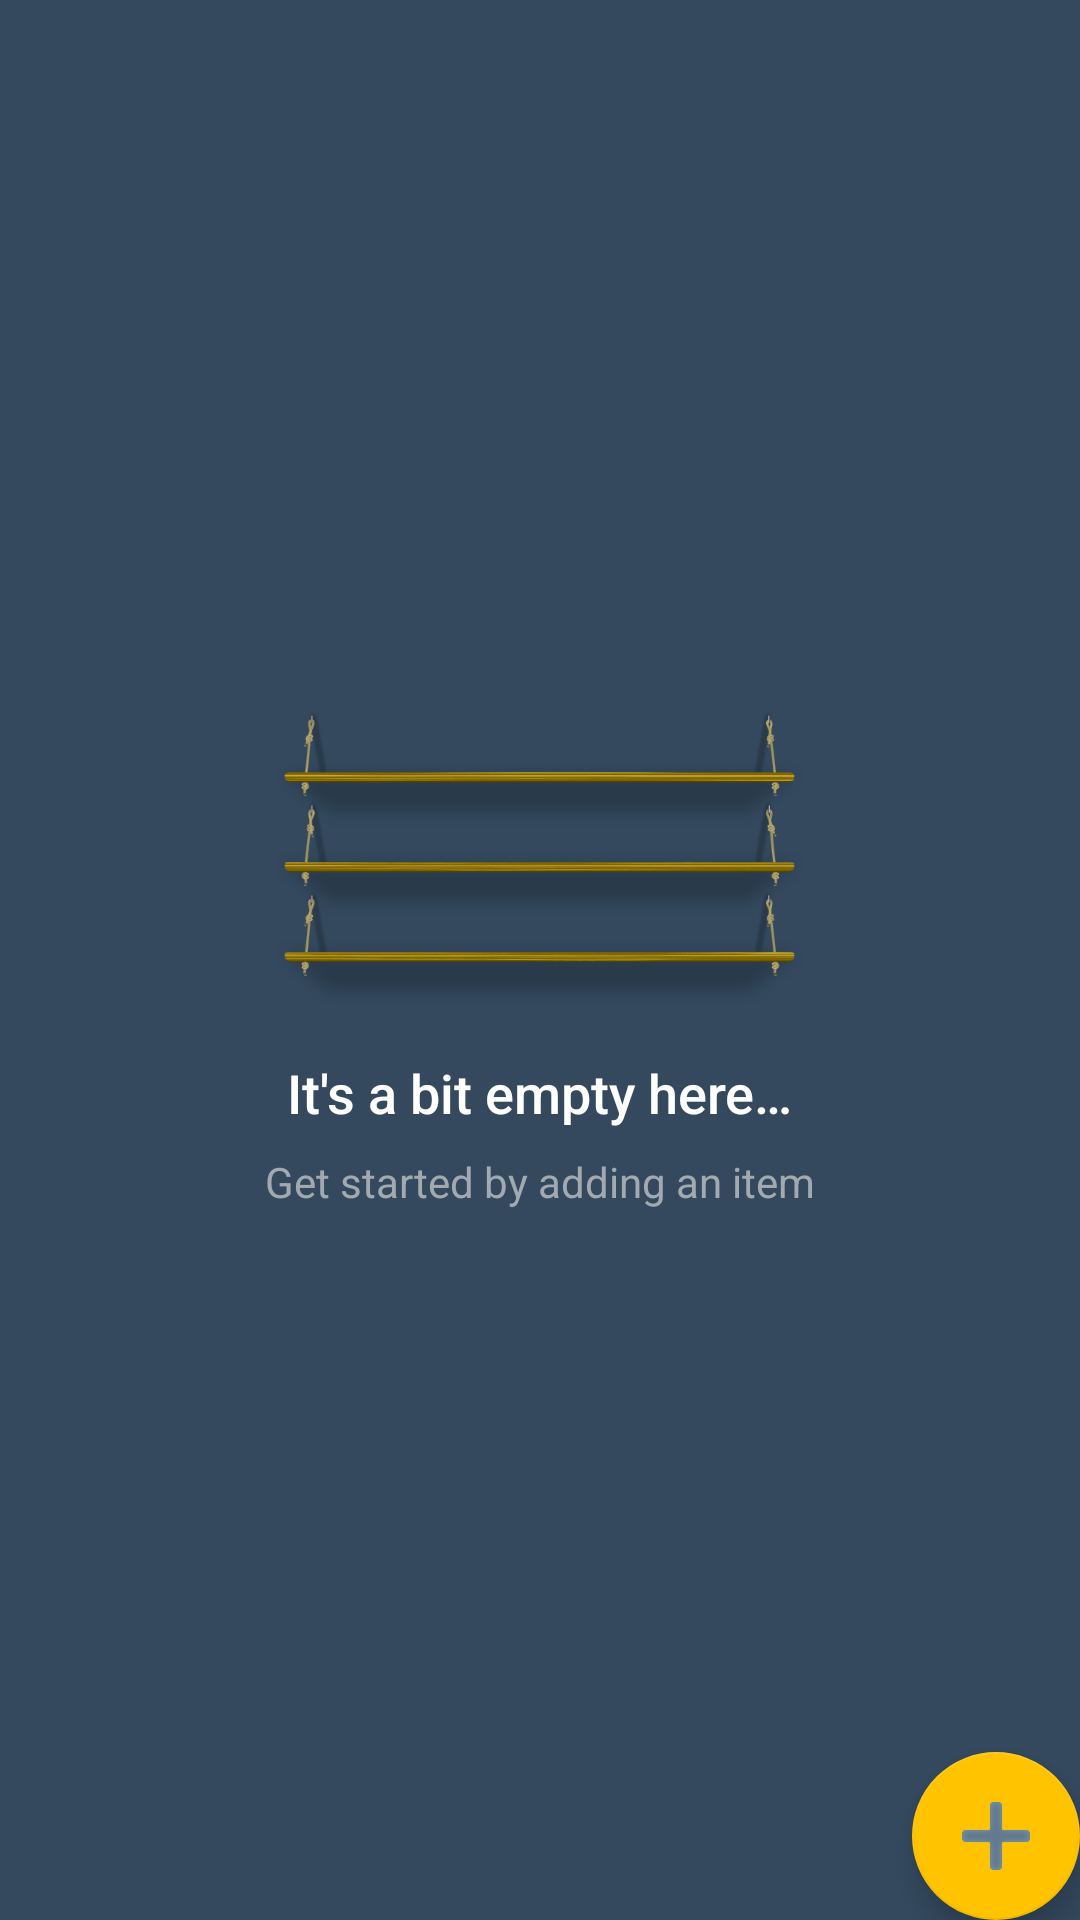

Where icons sit on this 1080 × 1920 app screen, as (x1,y1,x2,y2):
plus: (912,1752,1080,1920)
